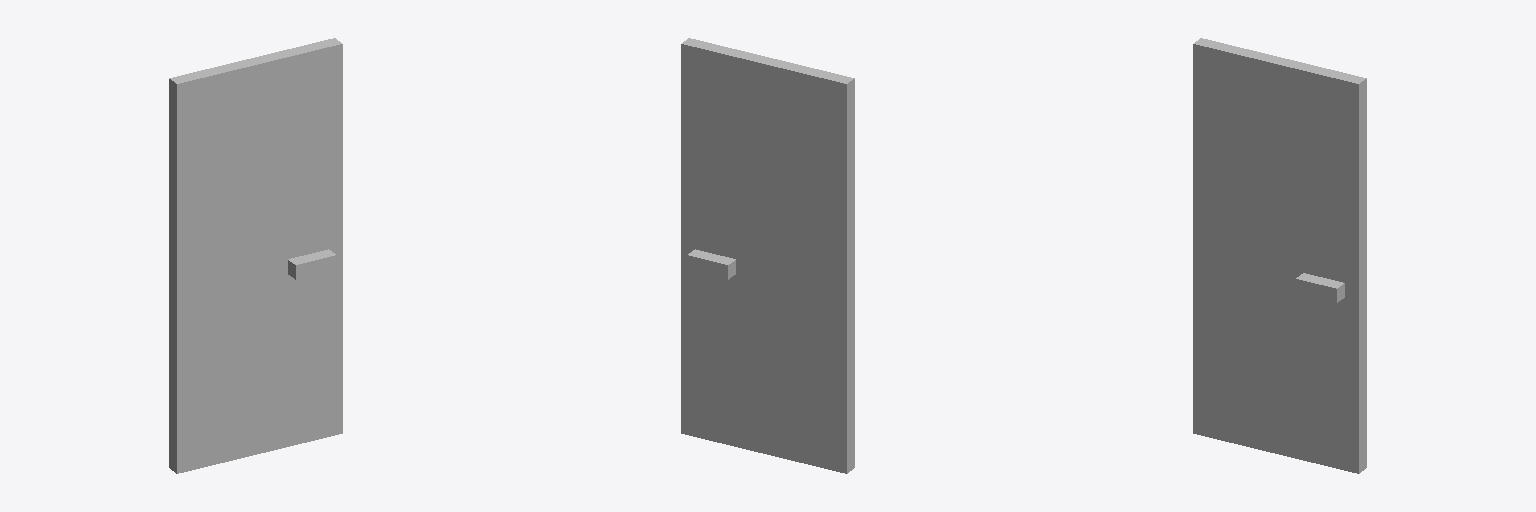
Rendered from Office_Misc_Set-62.obj.
3 renders of one model, left to right at view 1: azimuth 30°, elevation 25°; view 2: azimuth 150°, elevation 25°; view 3: azimuth 330°, elevation 25°, orthographic.
Visible parts, largest first — view 1: object 1; view 2: object 1; view 3: object 1.
Part boxes in pixels (left/top/right/bottom): object 1: left=169, top=38, right=342, bottom=473; object 1: left=681, top=38, right=854, bottom=473; object 1: left=1193, top=38, right=1366, bottom=473.
Bounding box in the file's own units: 1.2 × 2.7 × 0.3.